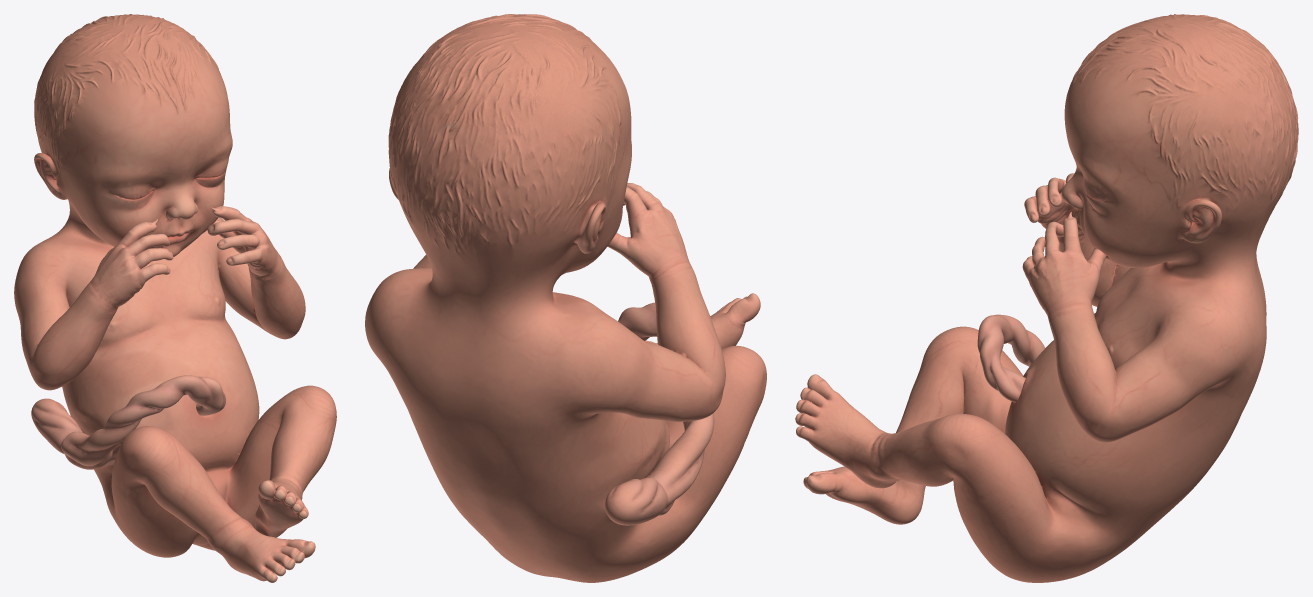
File: semaine-18.glb
3 views of the same model, side by side, from view 1: azimuth 30°, elevation 25°; view 2: azimuth 150°, elevation 25°; view 3: azimuth 270°, elevation 25° (orthographic). The views are drawn at different scales.
Bounding box in the file's own units: 1.1 × 1.9 × 1.61.
Materials: 1 (1 with a texture image).
